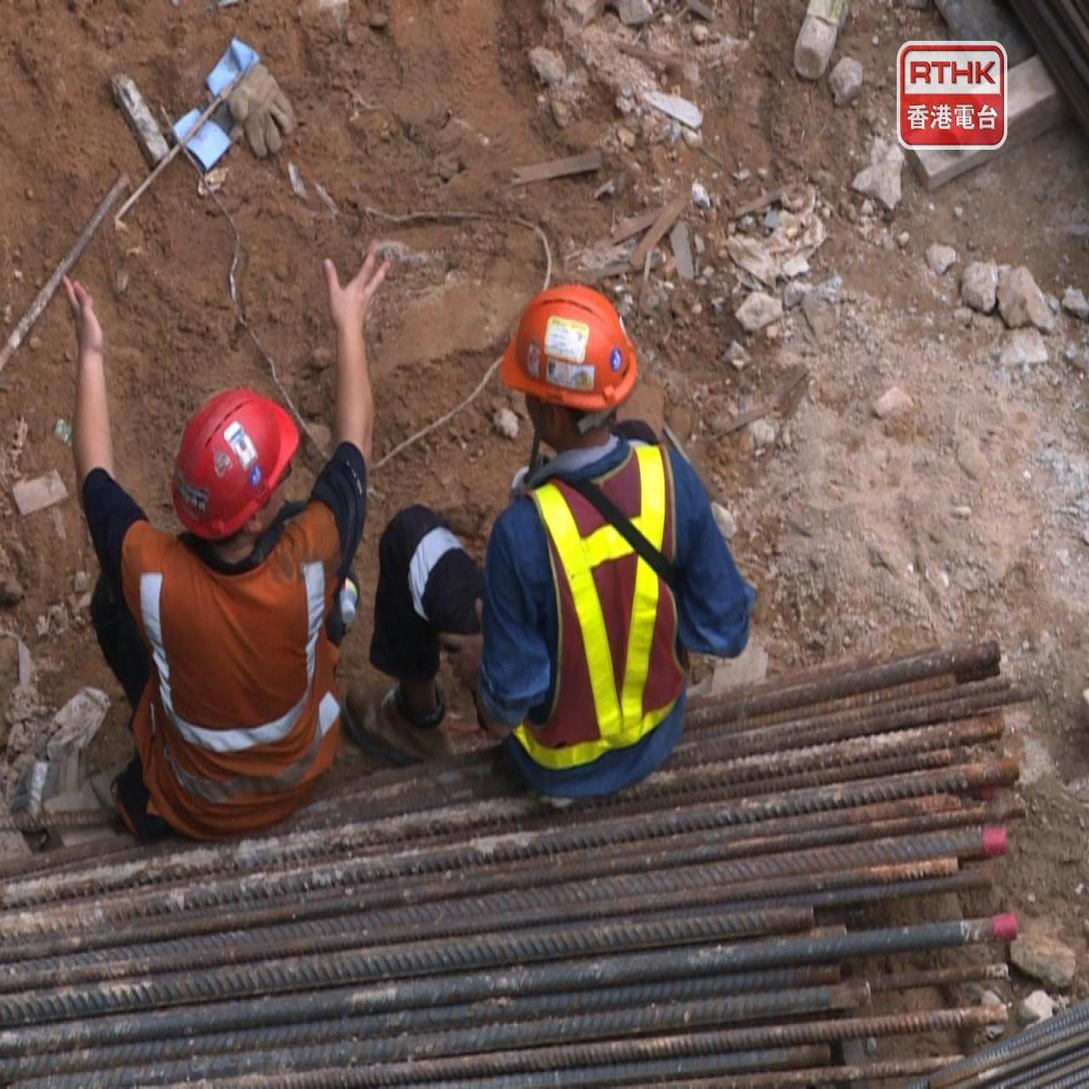NO_Safety_Vest: (123, 526, 347, 816)
Person: (43, 209, 411, 862), (376, 259, 759, 815)
Safety_Vest: (497, 437, 704, 784)
